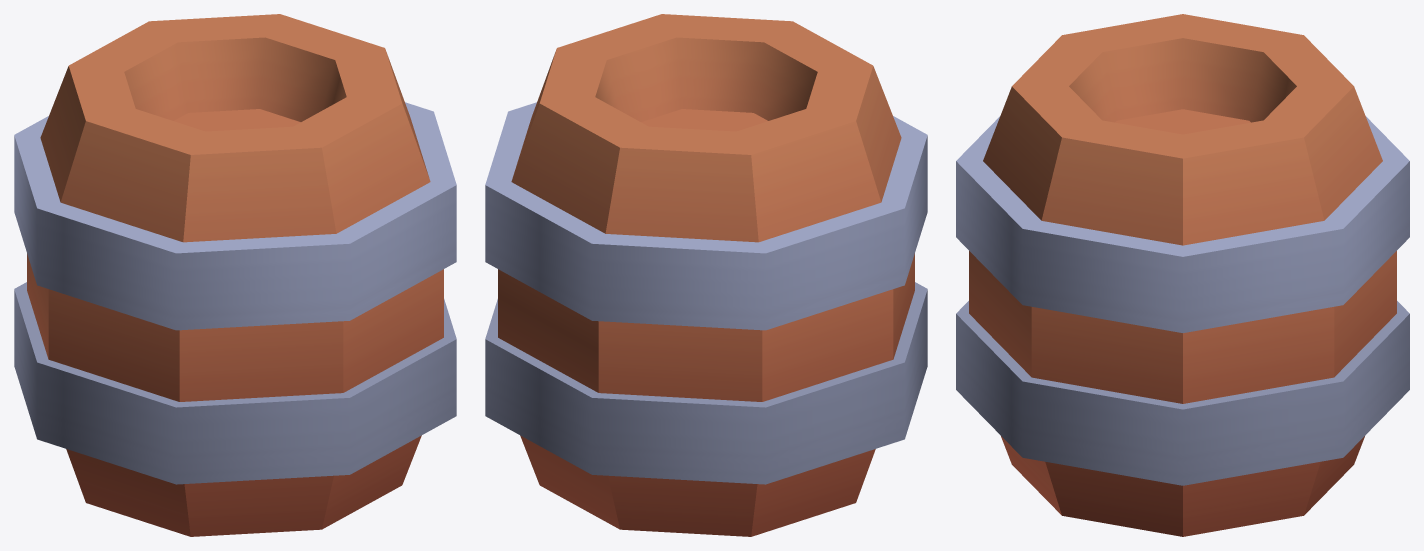
The picture shows the model from 3 angles, left to right: view 1: azimuth 30°, elevation 25°; view 2: azimuth 150°, elevation 25°; view 3: azimuth 270°, elevation 25°; orthographic projection.
Visible parts, largest first — view 1: barrel; view 2: barrel; view 3: barrel.
Part boxes in pixels (x1,y1,x2,y2): barrel: [14, 14, 456, 536]; barrel: [485, 14, 927, 536]; barrel: [956, 14, 1409, 536].
Size of the model in its own units: 0.5176 by 0.4762 by 0.5176.
1 material, 1 textured.
